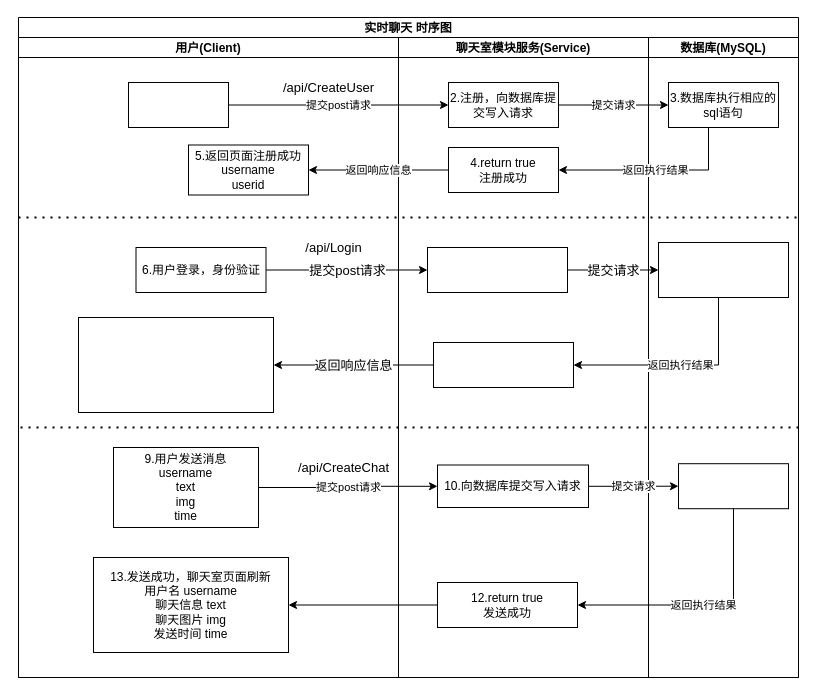
Image size: 817x695. Some labels were removed from this diagram. Each missing label, with the centre of its shape:
"1.用户注册" goes at point (178, 105).
"11.数据库执行相应的sql语句" goes at point (733, 486).
"7.return true 登录成功" goes at point (503, 365).
"7.数据库执行 相应的sql语句" goes at point (723, 270).
"7.登录，向数据库提交查询请求" goes at point (497, 269).
"8.登录成功，返回聊天室页面 用户名 username 聊天信息 text 聊天图片 img 发送时间 time" goes at point (176, 364).
